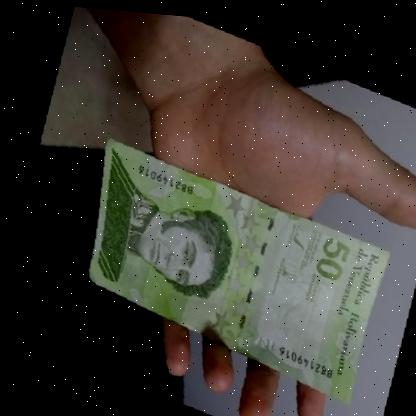fifty-front-vef: (62, 132, 403, 406)
